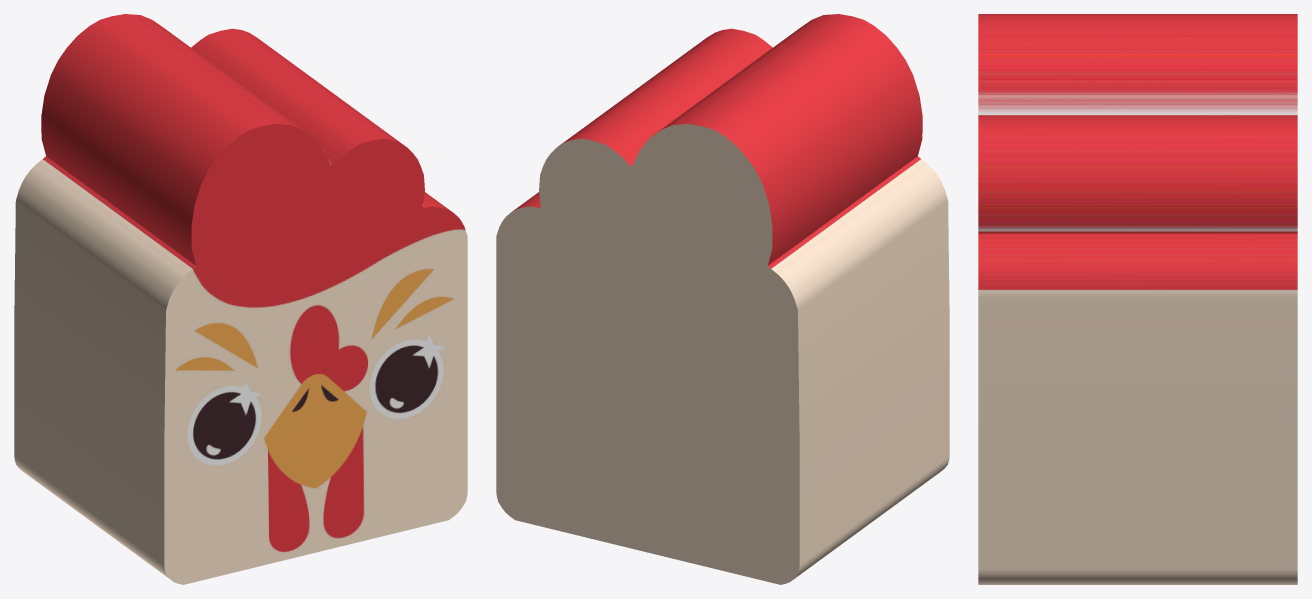
The model's file is Chicken.obj.
3 renders of one model, left to right at view 1: azimuth 30°, elevation 25°; view 2: azimuth 150°, elevation 25°; view 3: azimuth 270°, elevation 25°, orthographic. The views are drawn at different scales.
Parts seen in each view (by area): view 1: Chicken; view 2: Chicken; view 3: Chicken.
Boxes of the visible parts, x1,y1,x2,y2 form: Chicken: (14, 14, 467, 584); Chicken: (496, 14, 949, 584); Chicken: (978, 14, 1297, 584).
Bounding box in the file's own units: 5.37 × 7.44 × 4.61.
